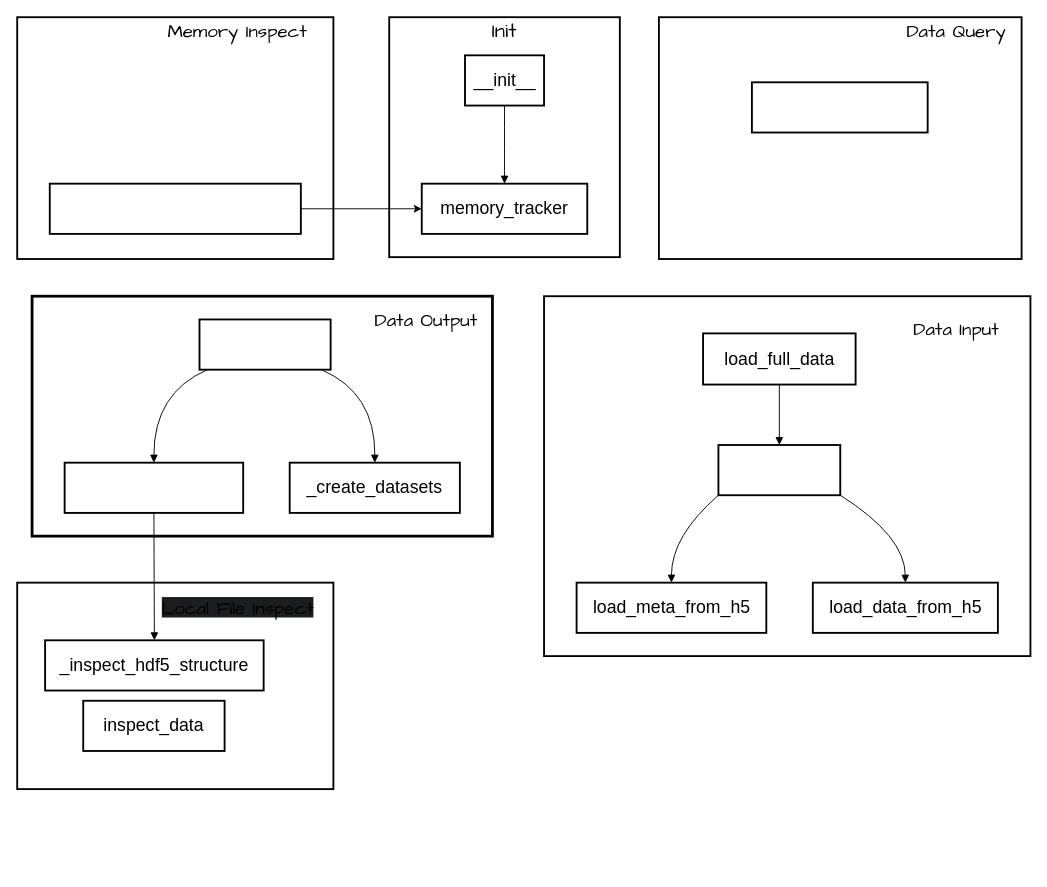
Image size: 1047x887. Some labels were removed from this diagram. Here are the shapes that lost their labels. From the top down, the centre of each, then its label:
(x=839, y=107): get_image_by_mz
(x=174, y=208): calculate_memory_usage_sys
(x=264, y=344): write2local
(x=153, y=487): _write_meta_data
(x=779, y=470): load_data
